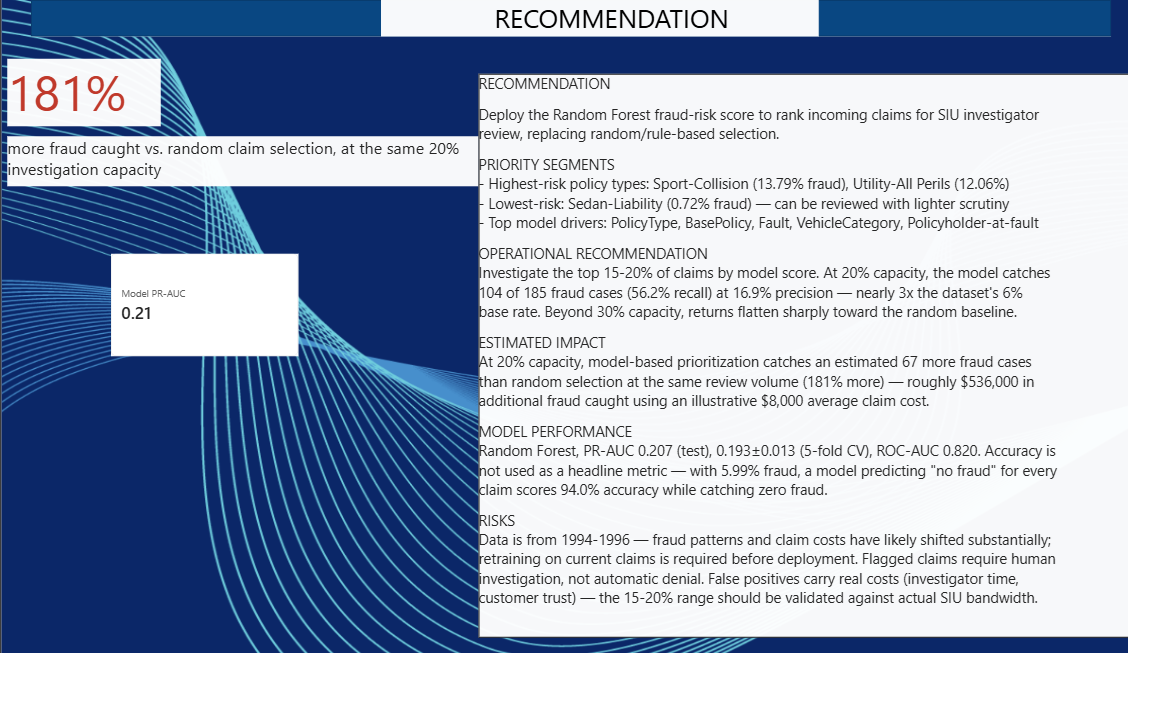

Layout of this report page (visuals, bound fields, positions):
{"tool":"powerbi","page":{"name":"Recommendation","canvas":[1920,1080],"ordinal":3},"visuals":[{"type":"textbox","box":[10.3,96.7,253.2,111.1],"z":0},{"type":"textbox","box":[10.3,224.4,776,82.3],"z":1},{"type":"textbox","box":[786.3,121.4,1134.1,928.3],"z":2},{"type":"cardVisual","fields":{"Data":["Claims.Model PR-AUC"]},"box":[181.1,417.8,308.7,168.8],"z":3},{"type":"shape","box":[49.4,0,1778.4,59.7],"z":4},{"type":"textbox","box":[625.7,0,720.4,59.7],"z":5}]}

Visuals, with their boxes on the page's 1920x1080 design canvas (x1, y1, x2, y2). These are canvas units, not pixel positions in the 1163x713 screenshot, which may show the page scaled, cropped or inside an application window:
textbox: <box>10,97,264,208</box>
textbox: <box>10,224,786,307</box>
textbox: <box>786,121,1920,1050</box>
cardVisual - Claims.Model PR-AUC: <box>181,418,490,587</box>
shape: <box>49,0,1828,60</box>
textbox: <box>626,0,1346,60</box>
